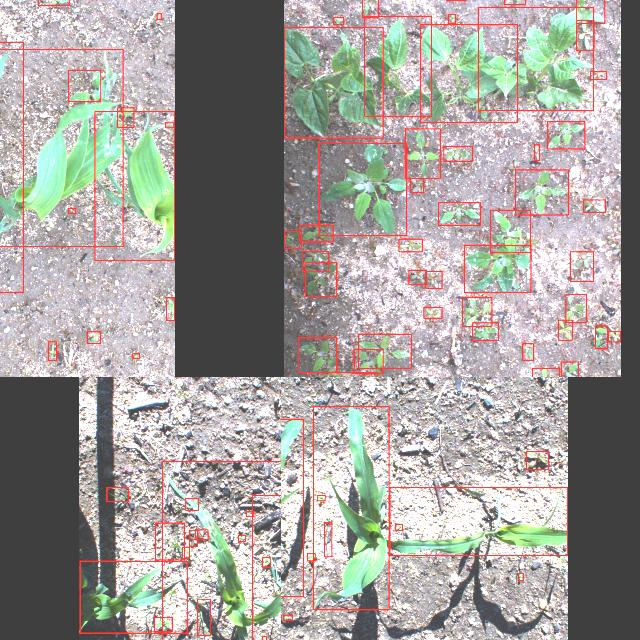crop: (0, 49, 123, 246), (162, 462, 281, 640), (313, 406, 389, 610), (390, 488, 568, 556), (478, 7, 594, 111), (95, 112, 175, 260), (284, 28, 382, 138), (420, 25, 518, 123), (80, 561, 186, 633), (364, 16, 432, 116), (281, 419, 303, 596)
weed: (318, 143, 406, 235), (464, 245, 530, 292), (515, 170, 569, 214), (404, 129, 440, 179), (358, 334, 410, 368), (490, 210, 530, 252), (298, 338, 336, 372), (305, 262, 337, 296), (156, 522, 184, 560), (69, 70, 101, 102), (438, 202, 480, 225), (548, 122, 584, 148), (462, 297, 492, 327), (570, 252, 594, 282), (353, 350, 382, 374), (577, 0, 605, 23), (299, 224, 333, 242), (566, 294, 586, 322), (576, 20, 594, 50), (302, 251, 328, 271), (472, 323, 498, 341), (443, 146, 472, 162), (198, 598, 210, 636), (526, 452, 548, 470), (398, 238, 422, 252), (118, 107, 134, 127), (106, 487, 128, 501), (154, 616, 172, 632), (558, 320, 572, 340), (362, 0, 378, 17), (324, 523, 332, 557), (596, 326, 608, 348), (584, 200, 606, 212), (426, 272, 442, 288), (284, 232, 300, 248), (561, 362, 578, 377), (408, 270, 426, 284), (532, 368, 560, 377), (522, 344, 534, 361), (410, 178, 424, 192), (424, 308, 442, 318), (167, 298, 175, 320), (38, 0, 69, 5), (48, 342, 56, 361), (88, 332, 100, 344), (186, 498, 198, 510), (195, 530, 208, 540), (590, 71, 606, 79), (189, 531, 197, 547), (609, 332, 621, 342), (534, 145, 540, 161), (448, 14, 456, 24), (262, 557, 270, 567), (182, 548, 190, 558), (333, 18, 343, 24), (282, 615, 292, 621), (68, 208, 76, 214), (166, 122, 174, 128), (238, 535, 246, 541), (307, 554, 315, 560), (156, 13, 162, 19), (318, 495, 324, 501), (396, 524, 402, 530), (518, 574, 524, 580), (132, 354, 140, 358), (246, 512, 254, 516), (261, 637, 266, 640)
